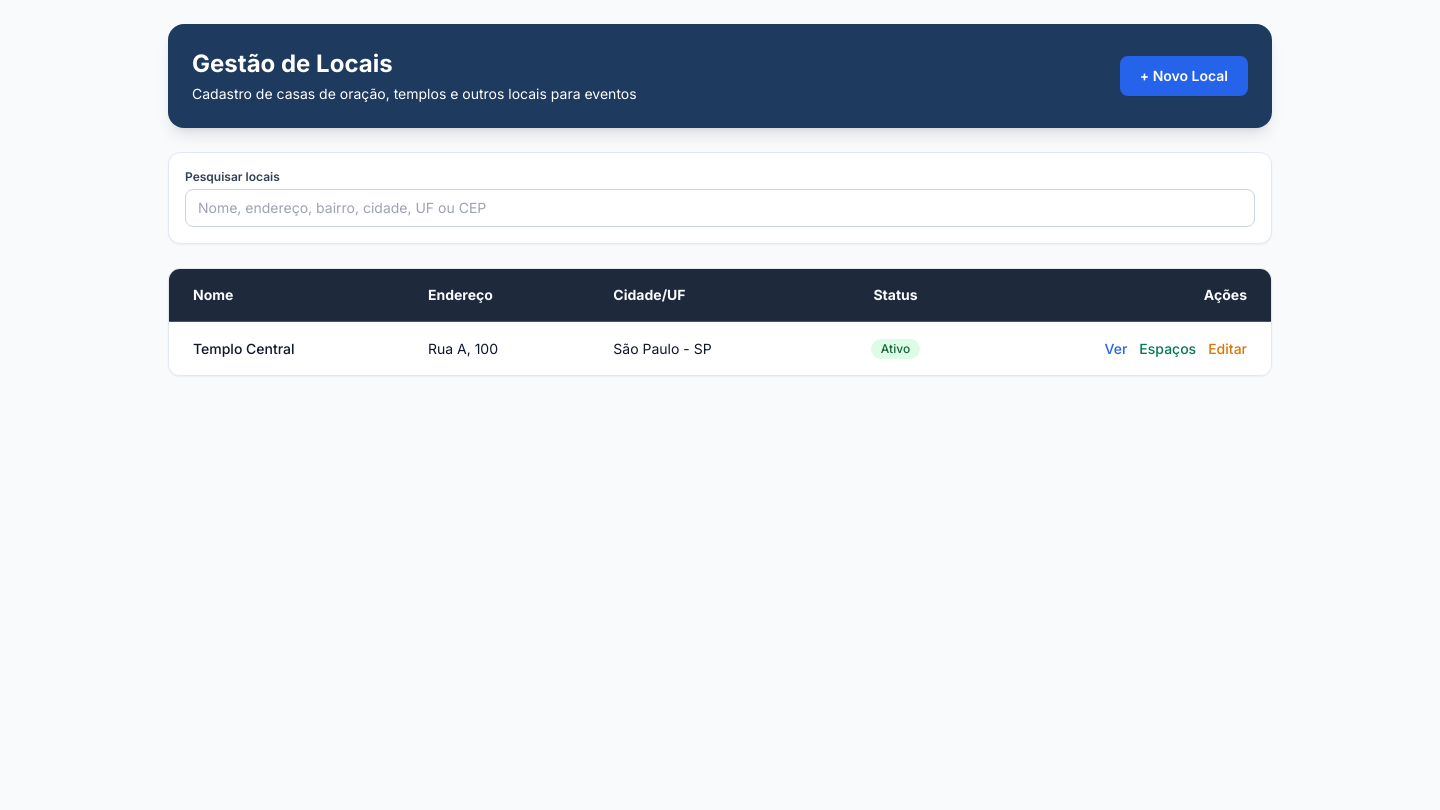
Scenario: LocaisView › deve exibir detalhes de um local em diálogo acessível
Check: the text "Templo Central" is shown, box [169,322,404,375]
Click the button "Ver" at (1116,348), box [1104,338,1127,358]
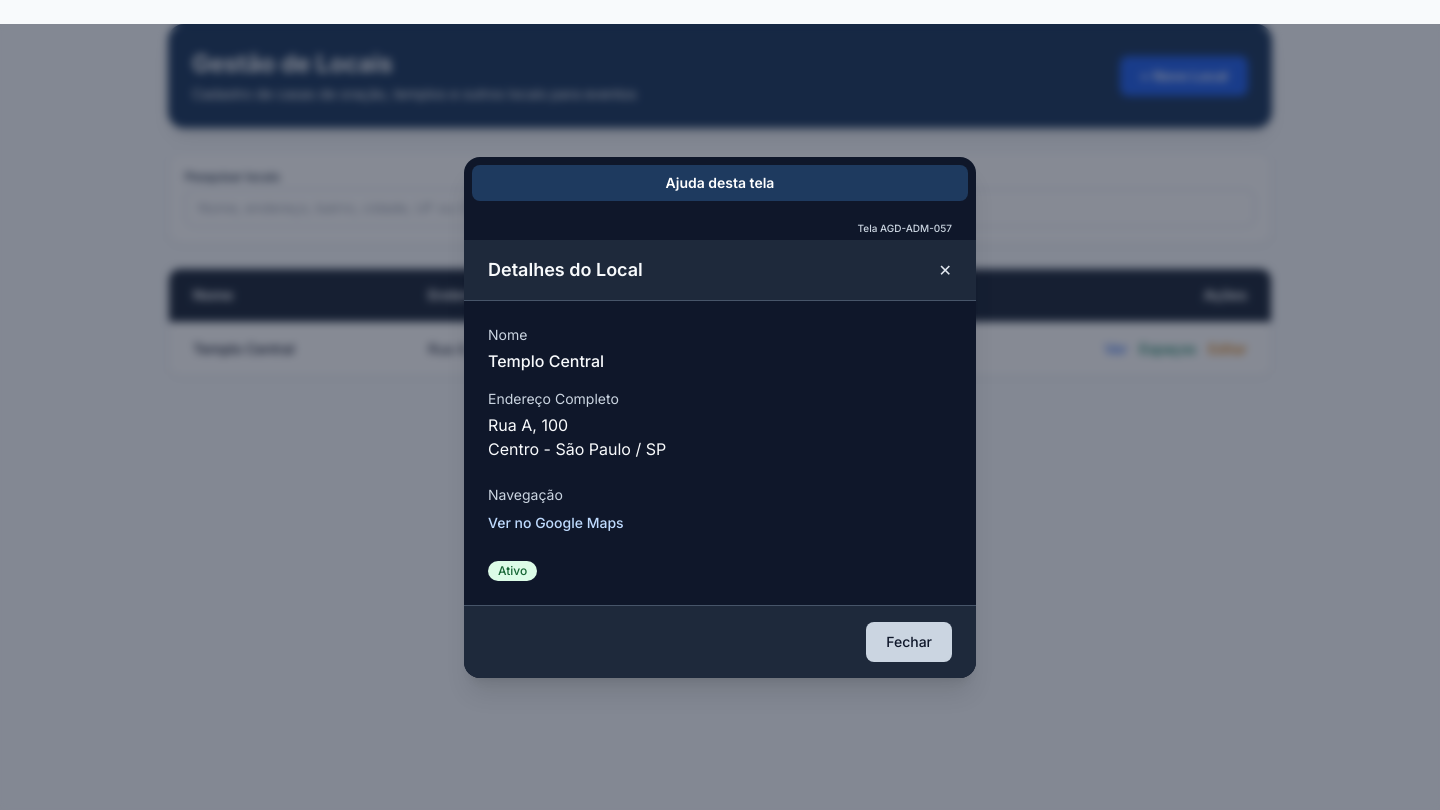
Check: the text "Centro - São Paulo / SP" is shown, box [488,438,666,458]
